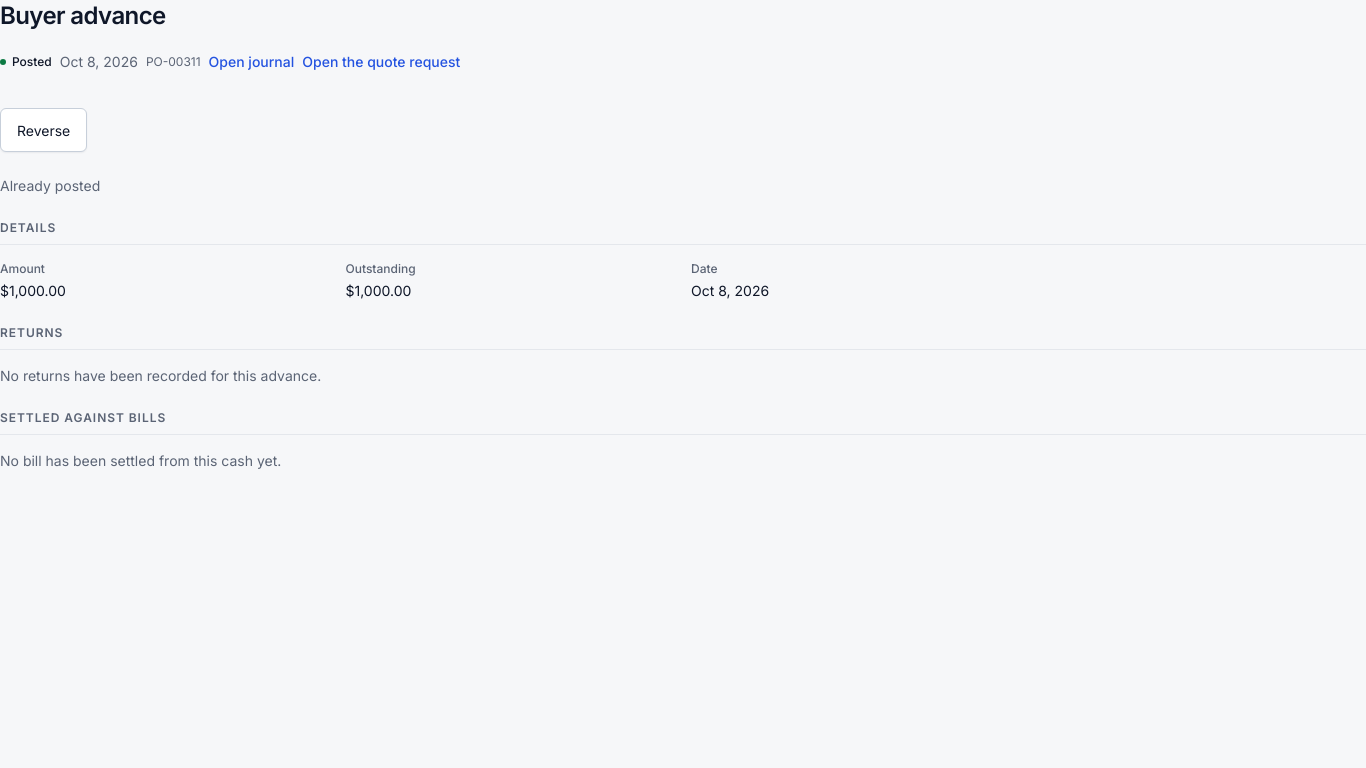
Test: BuyerAdvanceDetail — ADR-045 › reverses with a reason, and says the server refusal in words
Step 1. Click the button "Reverse" → (44, 130), box [0,108,87,152]
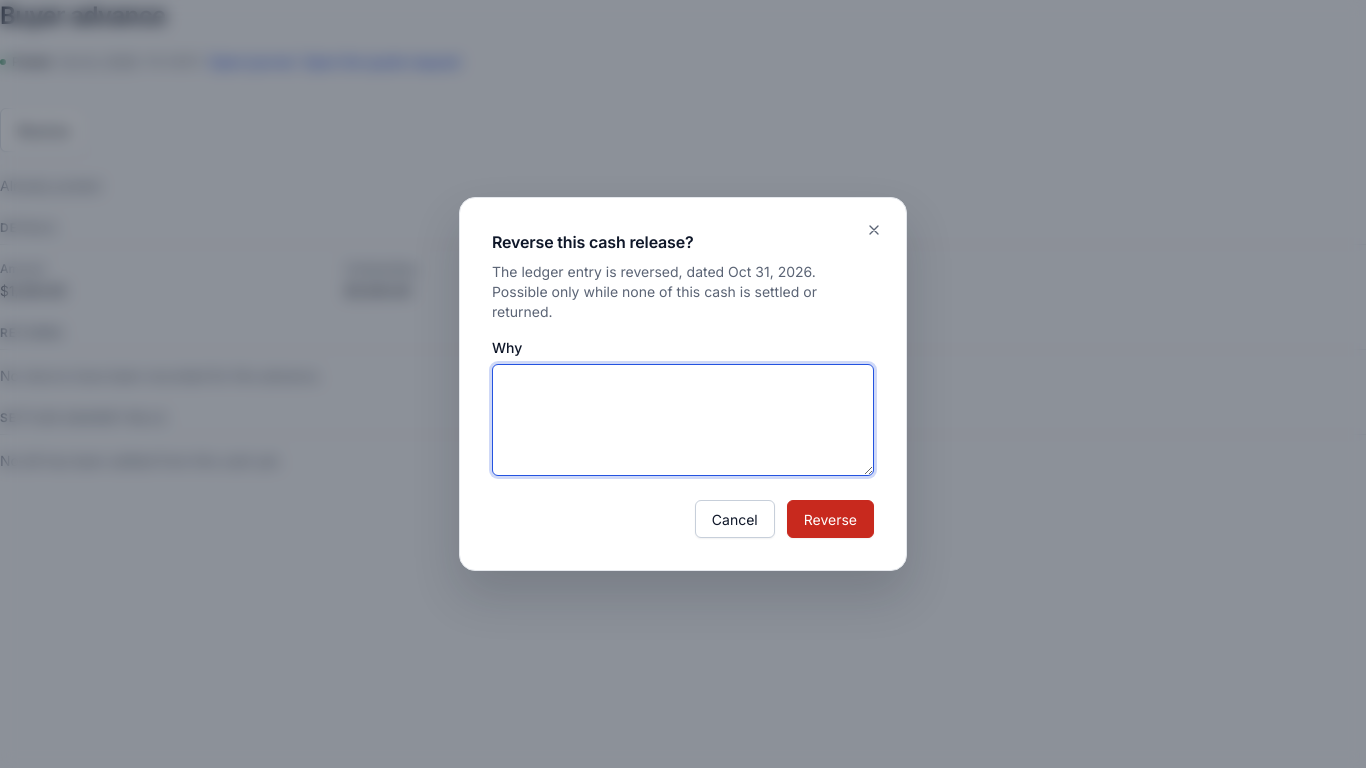
Step 2. Type "Store refused cash" into the text box → (683, 420), box [492,364,874,476]
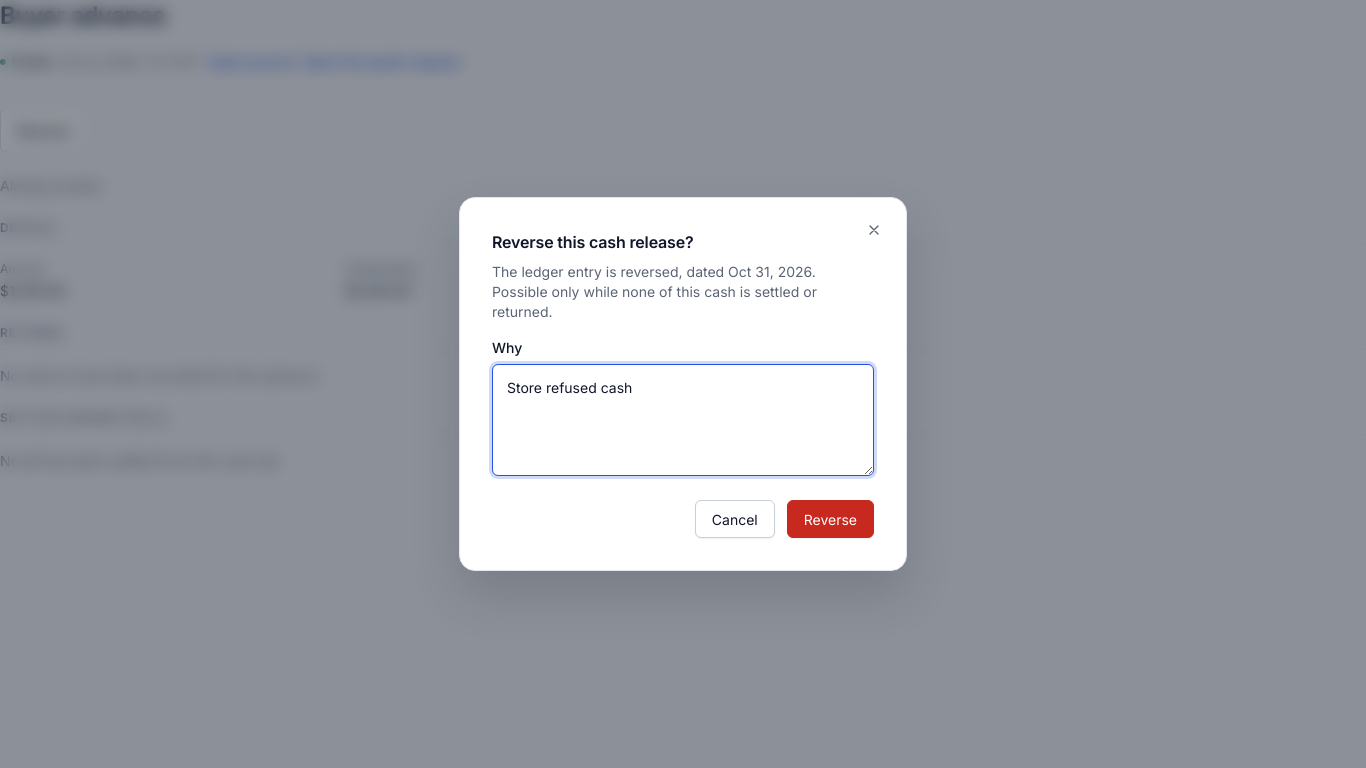
Step 3. Click the button "Reverse" → (830, 519), box [787,500,874,538]
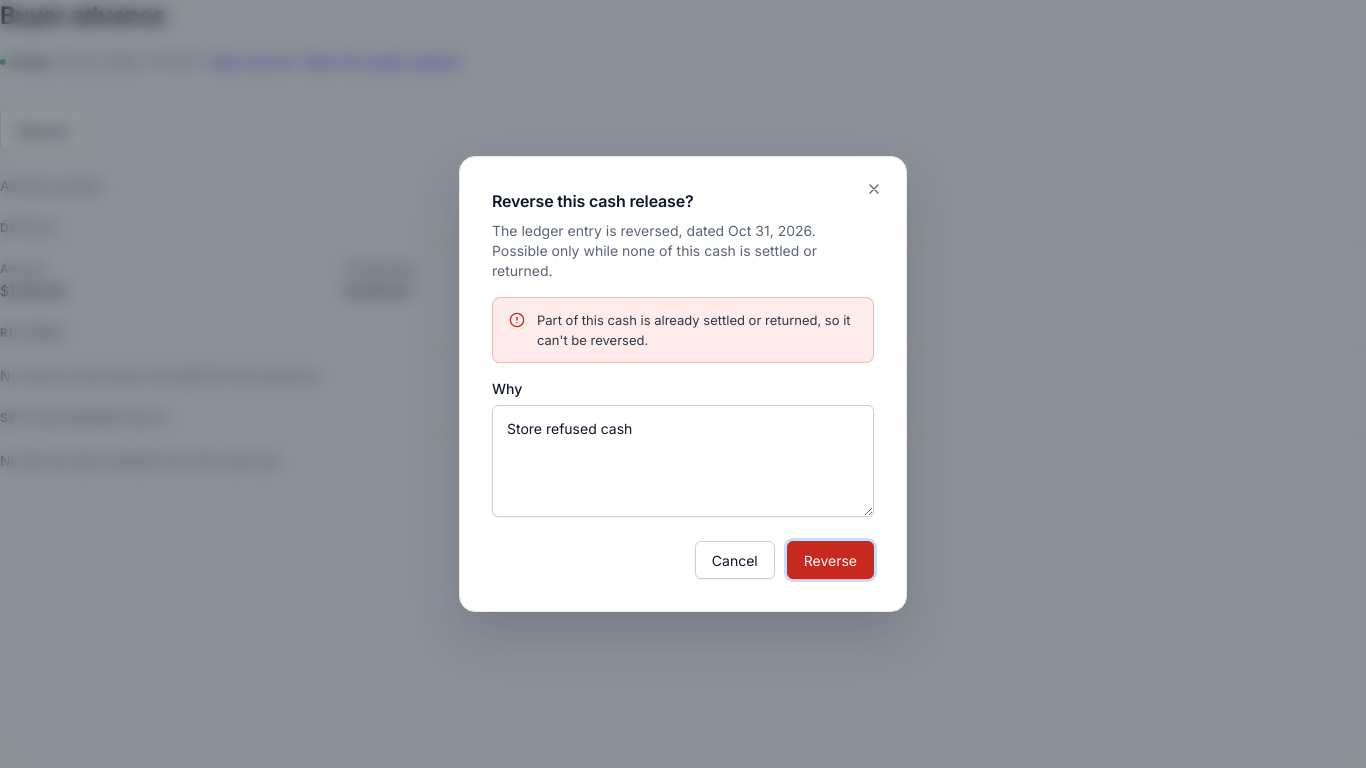
Now the text "Part of this cash is already settled or returned, so it can't be reversed." is shown, box [537,310,857,350]
